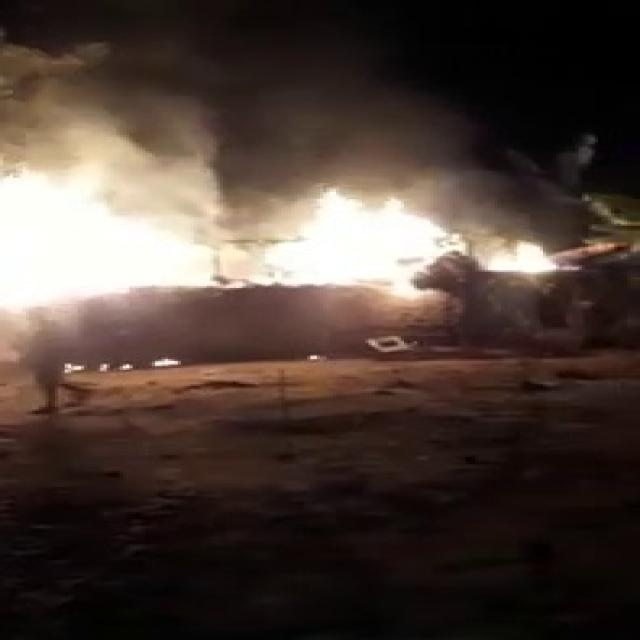Fire: (252, 182, 565, 312), (0, 174, 231, 298)
Smoke: (0, 0, 502, 199)
